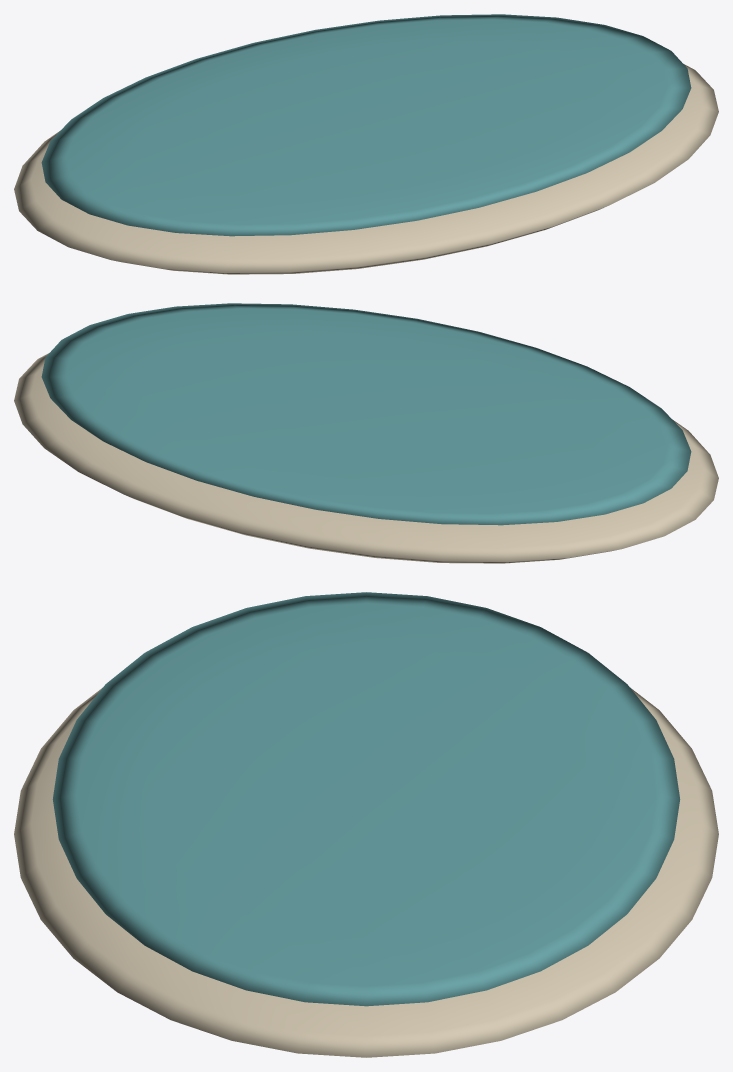
File: pond.glb
The picture shows the model from 3 angles, top to bottom: view 1: azimuth 30°, elevation 25°; view 2: azimuth 150°, elevation 25°; view 3: azimuth 270°, elevation 25°; orthographic projection. The views are drawn at different scales.
Parts seen in each view (by area): view 1: body; view 2: body; view 3: body.
Boxes of the visible parts, <box> form: body: <box>14,14,718,274</box>; body: <box>14,303,718,563</box>; body: <box>14,592,718,1057</box>.
Bounding box in the file's own units: 6 × 0.51 × 4.
